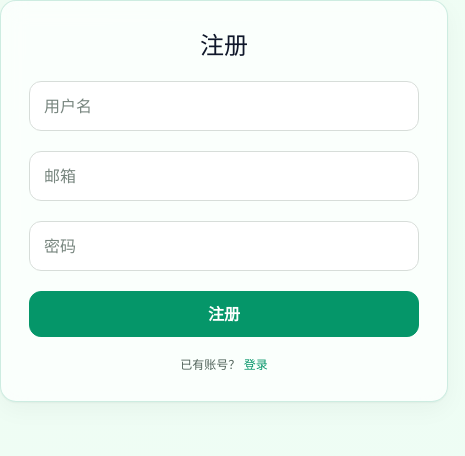
Test: RegisterPage › 保留注册字段、唯一提交按钮和警告区域
Click the button "注册" at coordinates (224, 314), box top-left (29, 291), bottom-right (419, 337)
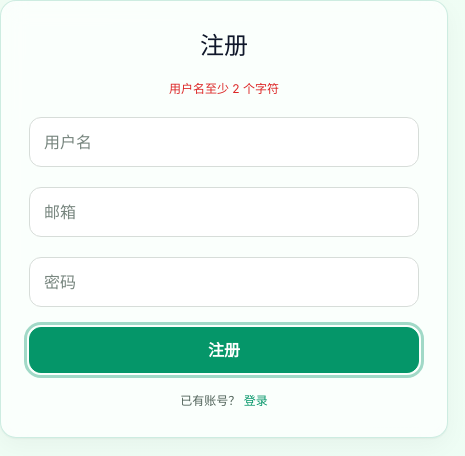
Now the message reads "用户名至少 2 个字符", box top-left (169, 81), bottom-right (279, 96)
